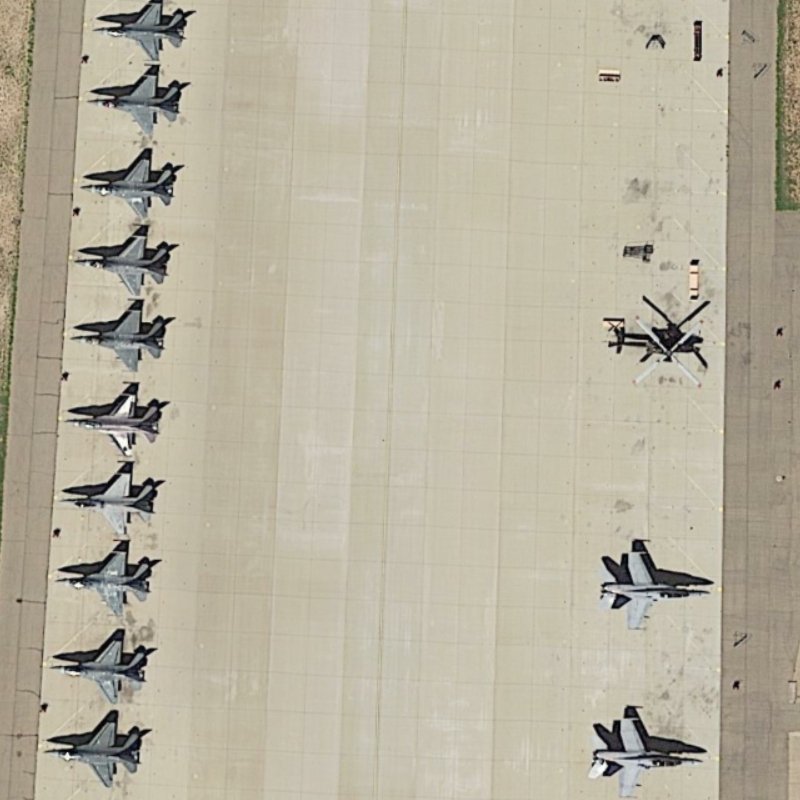A16: (585, 705, 709, 800), (597, 543, 718, 636)
A5: (77, 62, 198, 144), (51, 538, 163, 626), (58, 375, 170, 461), (43, 707, 154, 792), (65, 293, 180, 375), (48, 455, 168, 532), (46, 623, 158, 705), (72, 146, 186, 225), (72, 225, 185, 300), (89, 2, 196, 65)
